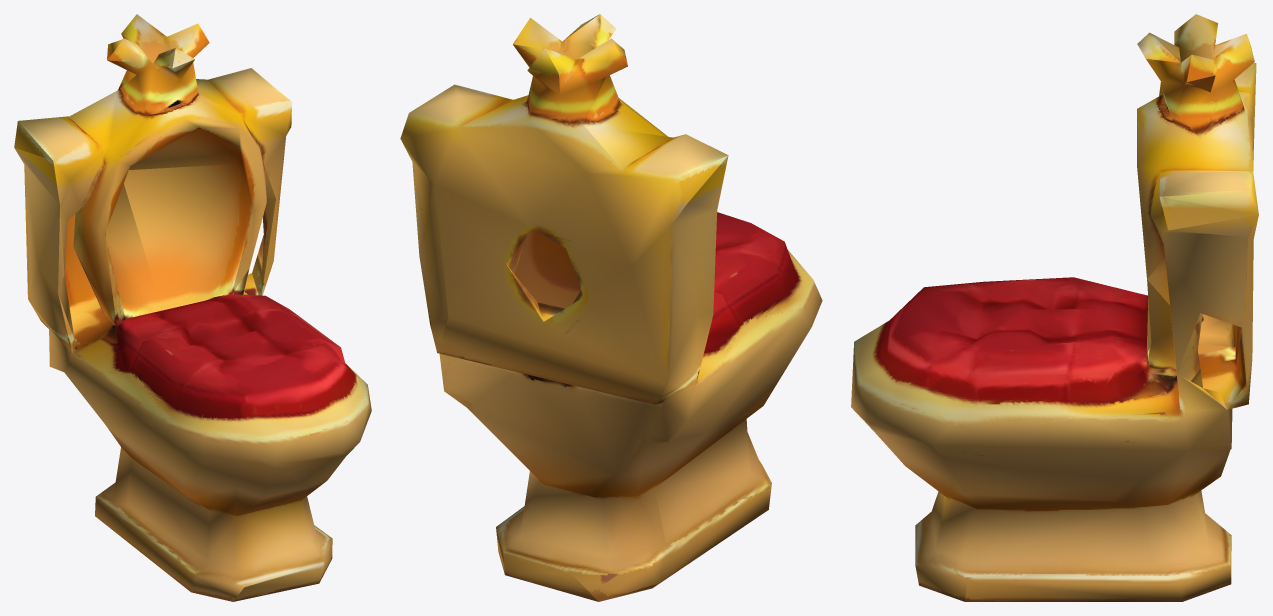
Rendered from gilded-throne-toilet.glb.
3 renders of one model, left to right at view 1: azimuth 30°, elevation 25°; view 2: azimuth 150°, elevation 25°; view 3: azimuth 270°, elevation 25°, orthographic. The views are drawn at different scales.
Parts seen in each view (by area): view 1: geometry_0.001; view 2: geometry_0.001; view 3: geometry_0.001.
Boxes of the visible parts, bbox=[...] form: geometry_0.001: bbox=[14, 14, 371, 601]; geometry_0.001: bbox=[400, 14, 822, 601]; geometry_0.001: bbox=[851, 14, 1258, 601].
Size of the model in its own units: 0.5363 by 1 by 0.6936.
Materials: 1 (1 with a texture image).
